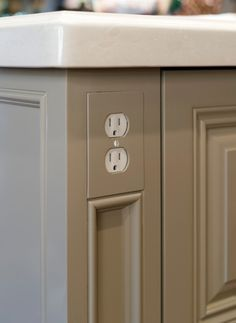outlet: (107, 150, 124, 173), (106, 115, 124, 135)
